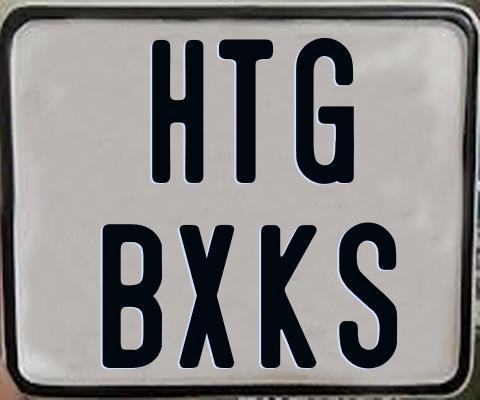B: (102, 223, 162, 367)
G: (294, 36, 355, 183)
H: (152, 40, 204, 189)
K: (260, 222, 321, 368)
S: (337, 219, 400, 365)
T: (216, 39, 273, 186)
X: (176, 223, 236, 369)
